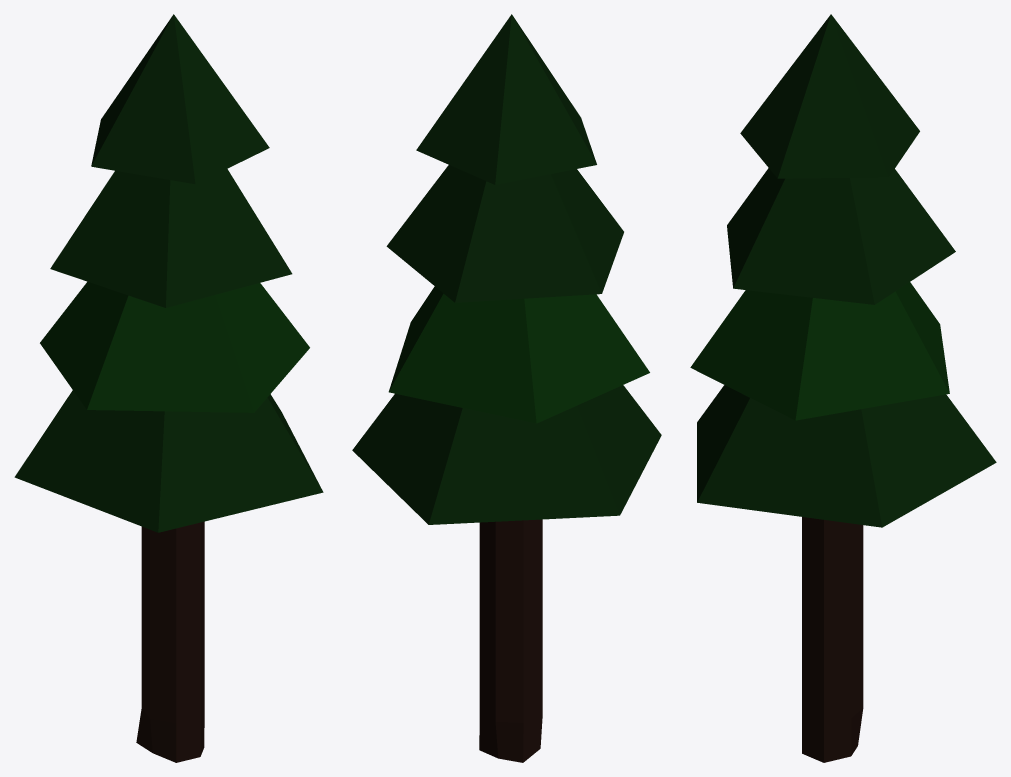
The model's file is livingtreeforest2noelle.obj.
3 renders of one model, left to right at view 1: azimuth 30°, elevation 25°; view 2: azimuth 150°, elevation 25°; view 3: azimuth 270°, elevation 25°, orthographic.
Parts seen in each view (by area): view 1: Cone.009; view 2: Cone.009; view 3: Cone.009.
Boxes of the visible parts, bbox=[...] form: Cone.009: bbox=[14, 14, 323, 762]; Cone.009: bbox=[352, 14, 661, 762]; Cone.009: bbox=[690, 14, 996, 762].
Size of the model in its own units: 1.71 by 4.52 by 1.71.
